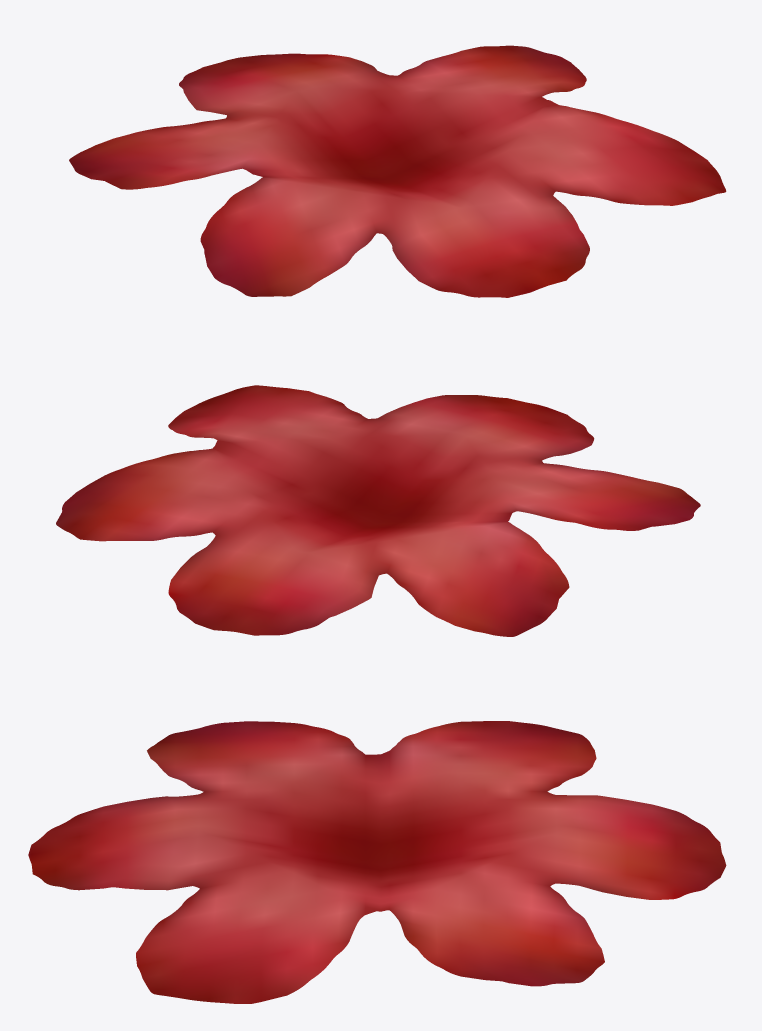
File: Flower02.glb
3 renders of one model, top to bottom at view 1: azimuth 30°, elevation 25°; view 2: azimuth 150°, elevation 25°; view 3: azimuth 270°, elevation 25°, orthographic. The views are drawn at different scales.
Visible parts, largest first — view 1: Flower02; view 2: Flower02; view 3: Flower02.
Boxes of the visible parts, <box> form: Flower02: <box>69,45,726,297</box>; Flower02: <box>56,385,700,636</box>; Flower02: <box>28,721,726,1003</box>.
Size of the model in its own units: 0.6029 by 0.0375 by 0.6029.
1 material, 1 textured.
